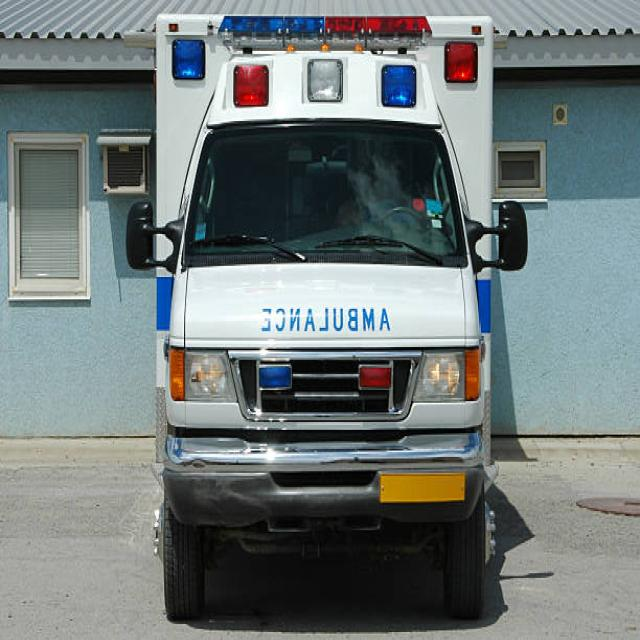Ambulance: (144, 12, 527, 640)
